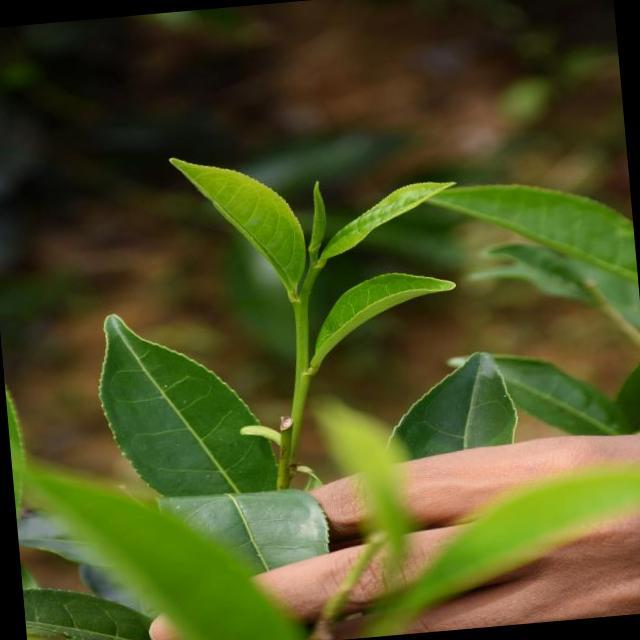Stem: (295, 299, 308, 316)
